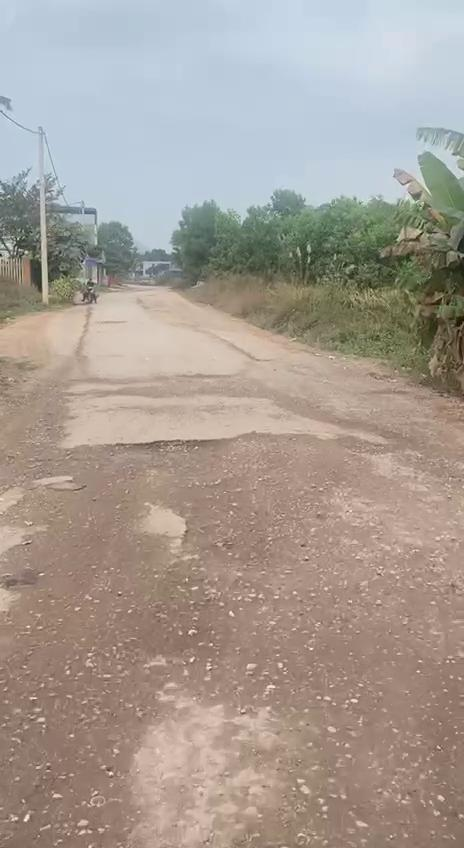pothole: (188, 489, 260, 566), (113, 434, 228, 472)
